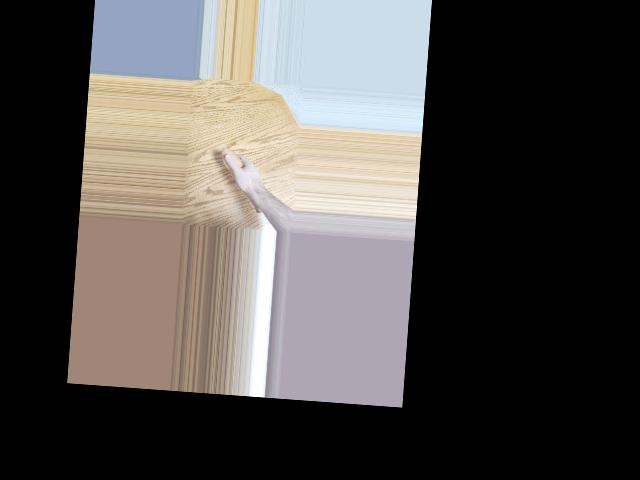sweet_potato: (216, 146, 271, 216)
